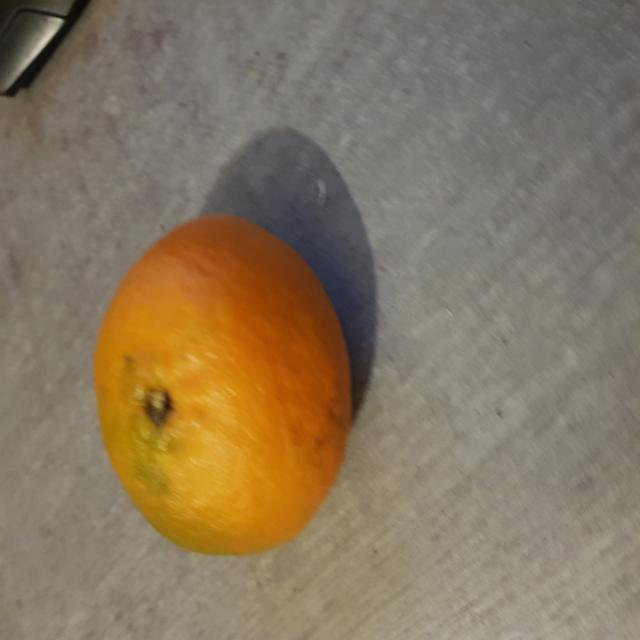Orange: (92, 214, 355, 559)
